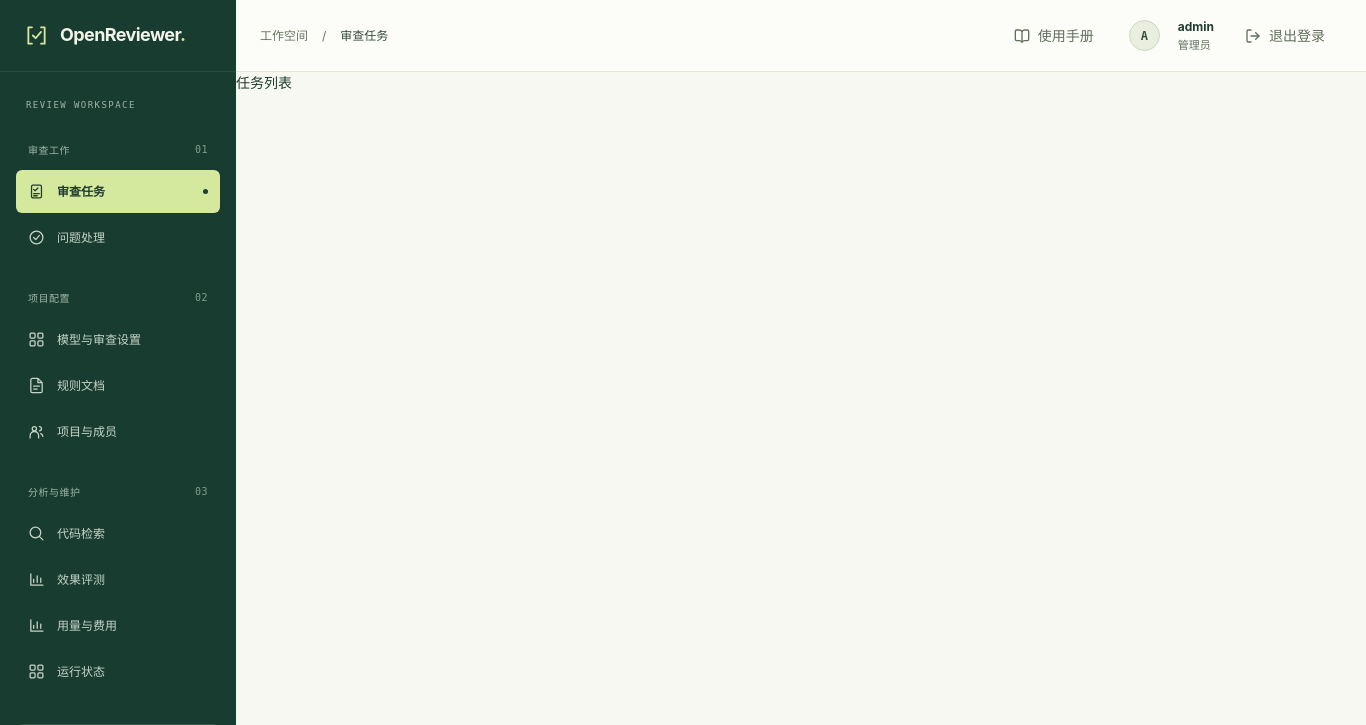
Test: 费用、问题和运行状态有独立入口，右上角打开完整手册
Click the button "使用手册" at x=1054, y=36, box [1001,18,1107,54]
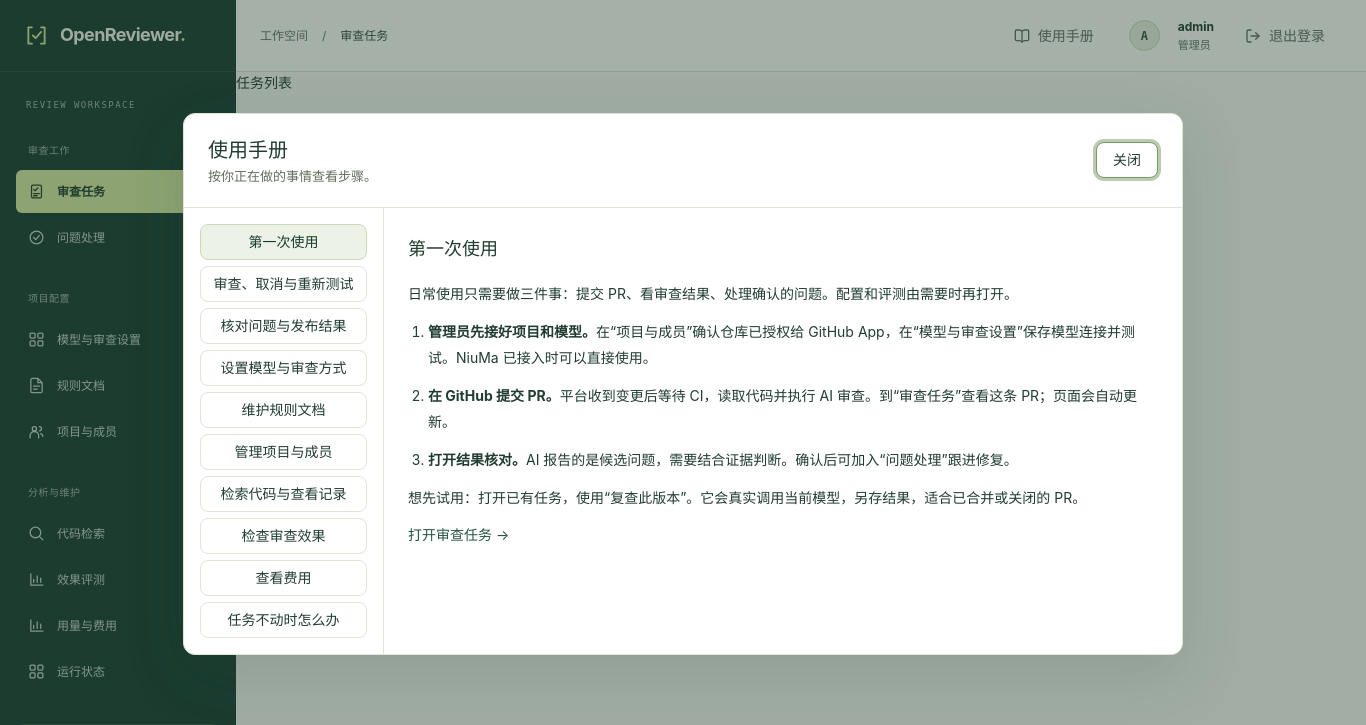
Expected: the heading "第一次使用" is shown, [408,238,498,259]
Click the button "维护规则文档" at x=284, y=410, box [200,392,367,428]
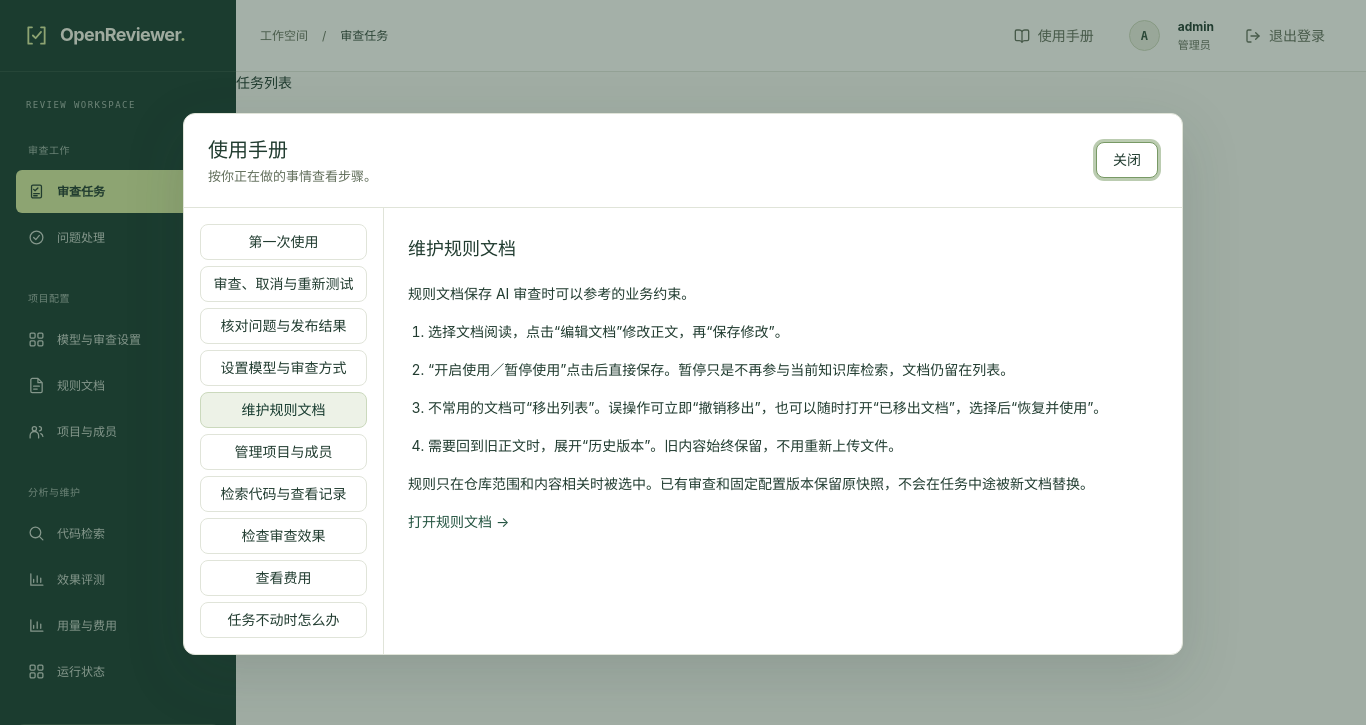
Expected: the list item "不常用的文档可“移出列表”。误操作可立即“撤销移出”，也可以随时打开“已移出文档”，选择后“恢复并使用”。" is shown, [428,395,1158,421]
Click the button "关闭" at x=1127, y=160, box [1096,142,1158,178]
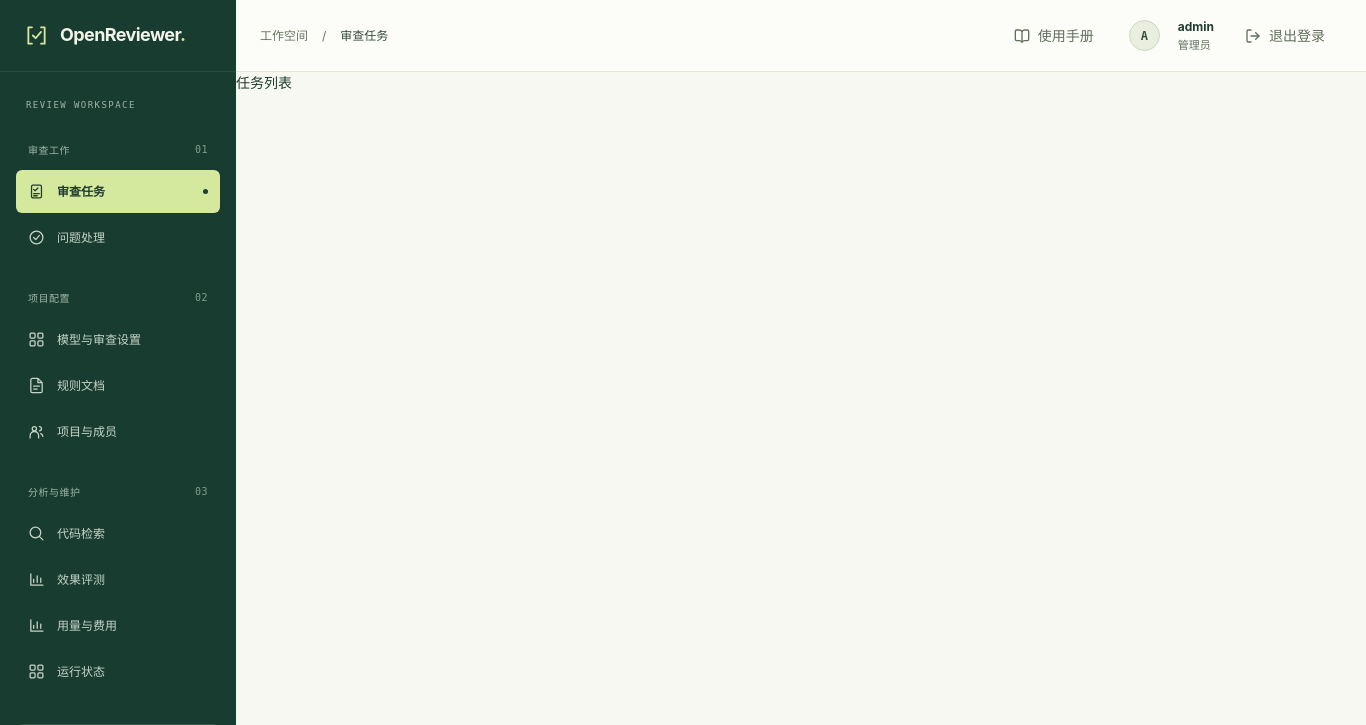
Expected: the dialog is gone
